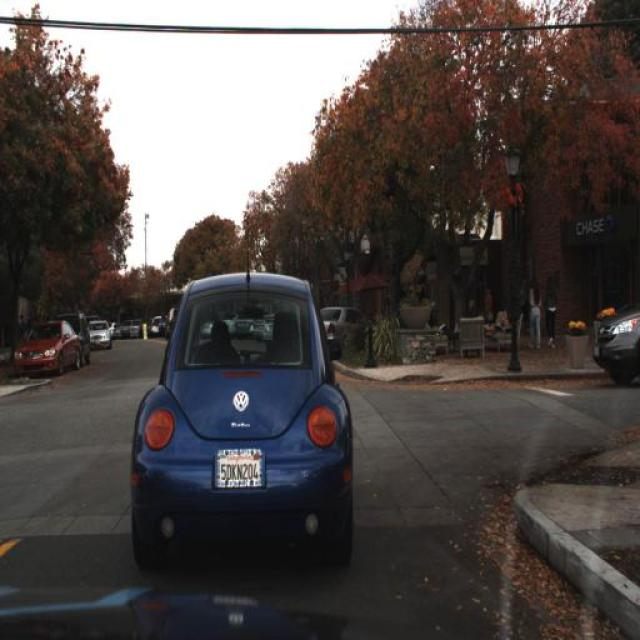car: (126, 261, 363, 587), (12, 317, 82, 378), (592, 298, 640, 382), (317, 305, 368, 354), (85, 318, 114, 353), (73, 311, 91, 364), (161, 306, 184, 345)
trafficLight: (523, 270, 543, 350), (543, 272, 558, 349), (492, 302, 506, 327), (483, 281, 495, 309)
